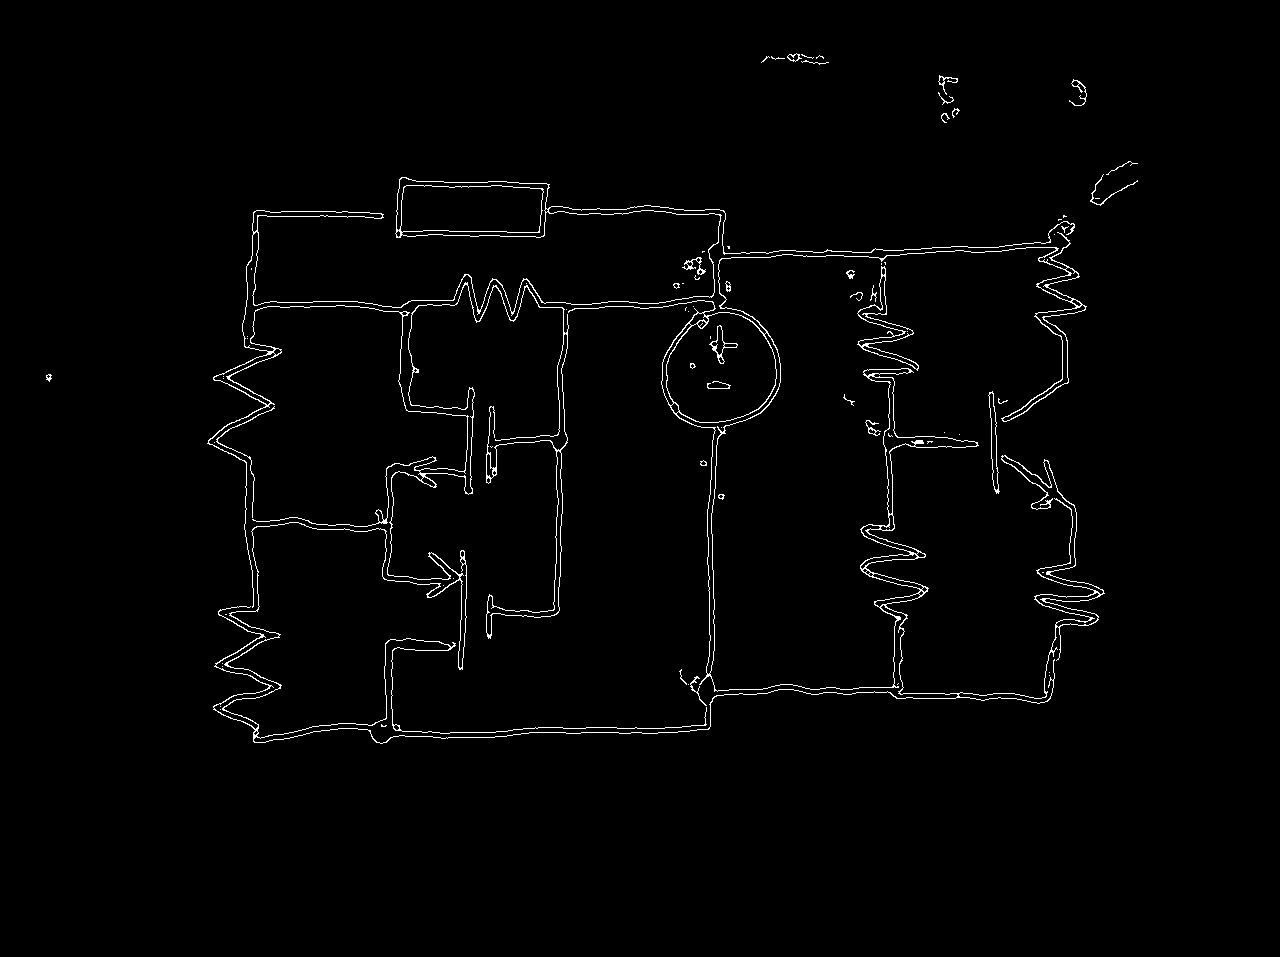resistor: (201, 322, 292, 483), (204, 585, 282, 739), (854, 498, 931, 643), (848, 271, 924, 412), (1026, 541, 1108, 657), (1027, 240, 1098, 357), (435, 268, 553, 330)
voltage: (657, 300, 788, 442)
